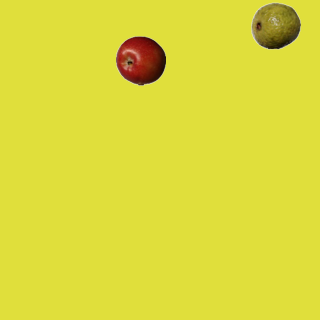Apple Braeburn: (115, 35, 165, 85)
Guava: (250, 0, 300, 50)
